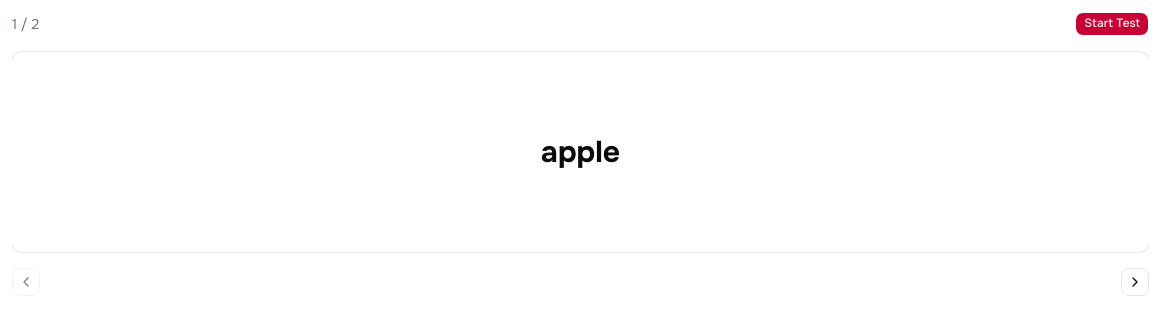
Test case: VocabularyStudy › resets flip when navigating back
Step 1. Click the button named "Next card" → (1135, 282), box [1121, 268, 1149, 296]
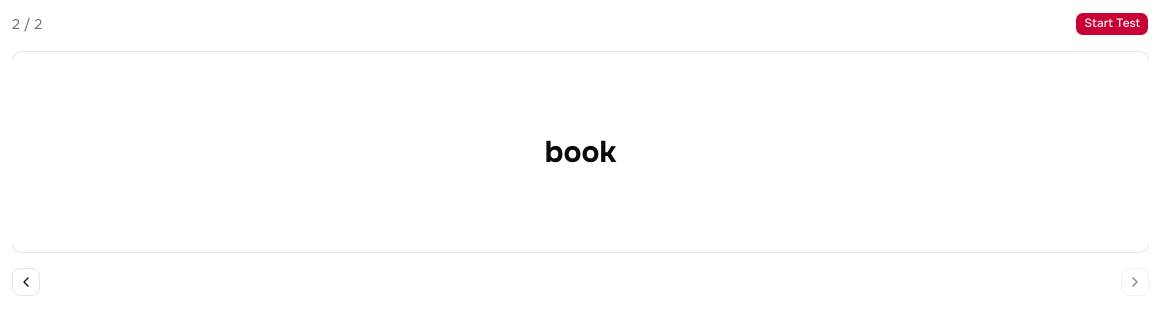
Step 2. Click the button with aria-label "flip card" → (580, 152), box [12, 52, 1149, 252]
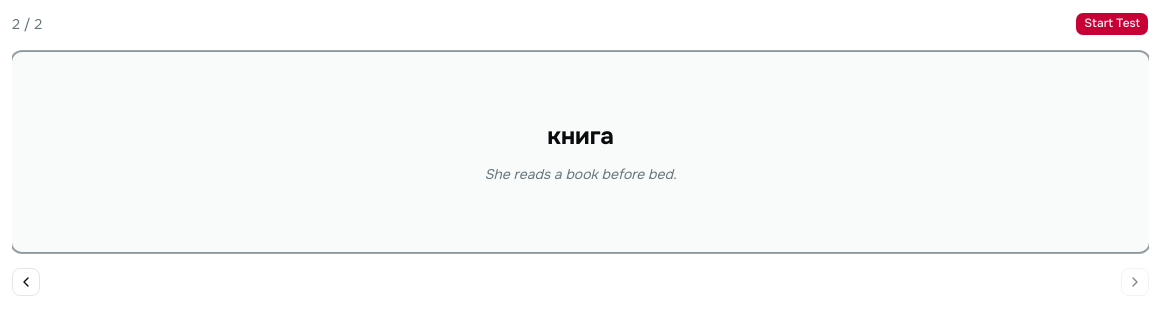
expect the text "книга" is shown: met, box [547, 121, 614, 151]
Step 3. Click the button named "Previous card" → (26, 282), box [12, 268, 40, 296]
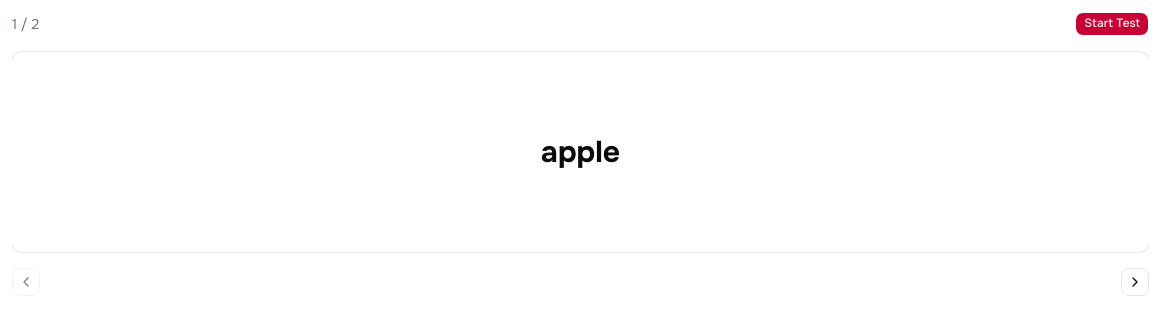
expect the text "apple" is shown: met, box [541, 134, 620, 170]
